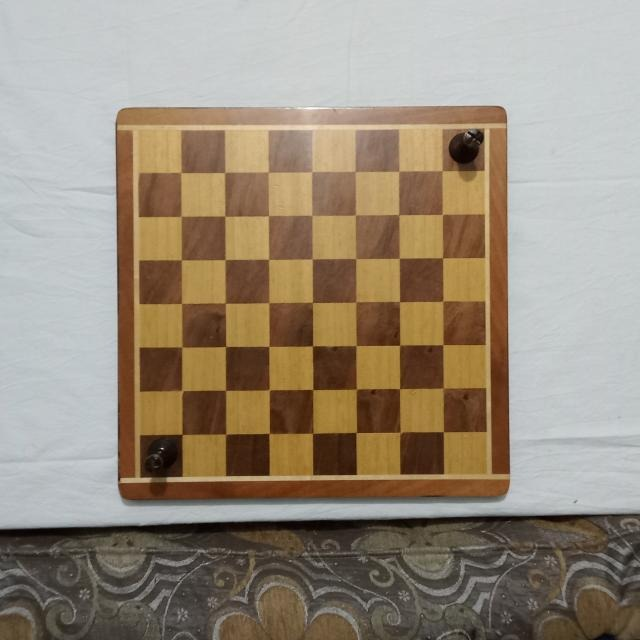black-rook: (142, 435, 178, 476), (447, 129, 484, 167)
